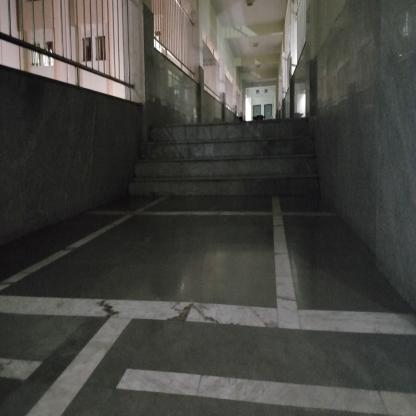stairs: (151, 120, 310, 200)
